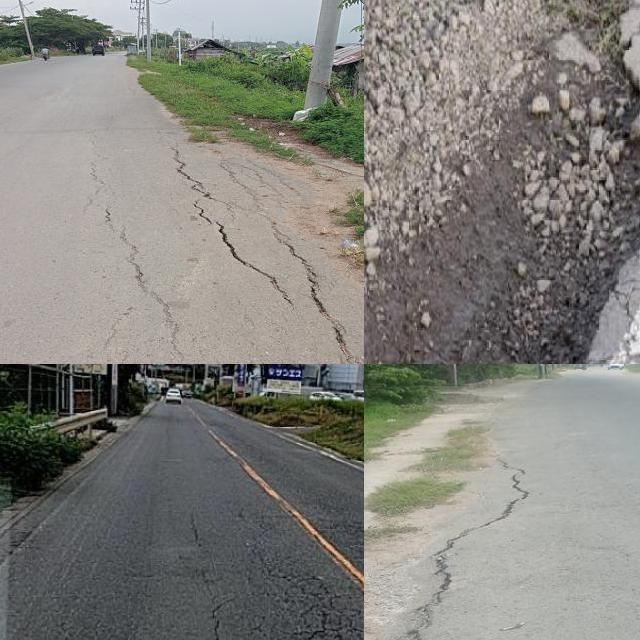Memanjang: (365, 458, 555, 640)
Pinggir: (364, 0, 640, 364), (141, 109, 364, 364)
Retak Buaya: (262, 559, 364, 640)
